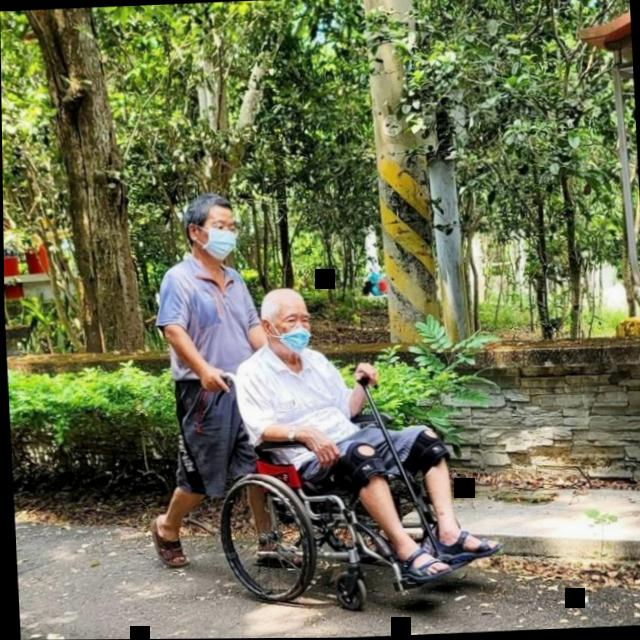Mask: (277, 297, 310, 357), (202, 209, 236, 262)
